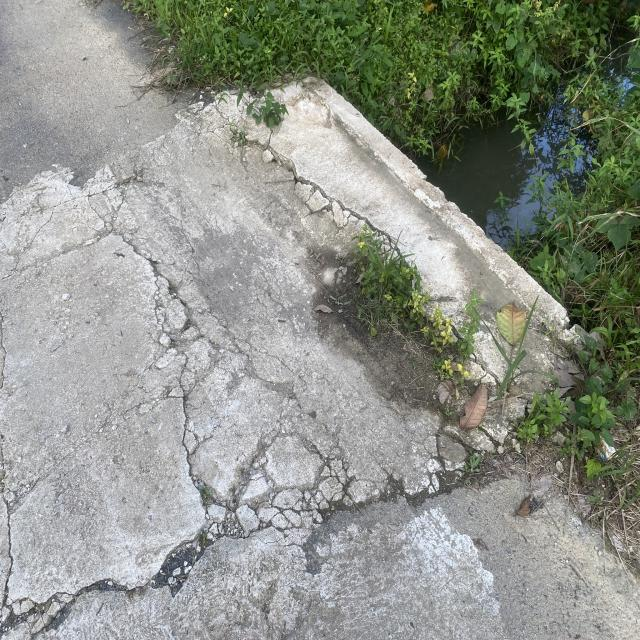pothole: (125, 258, 268, 566), (237, 125, 391, 270)
